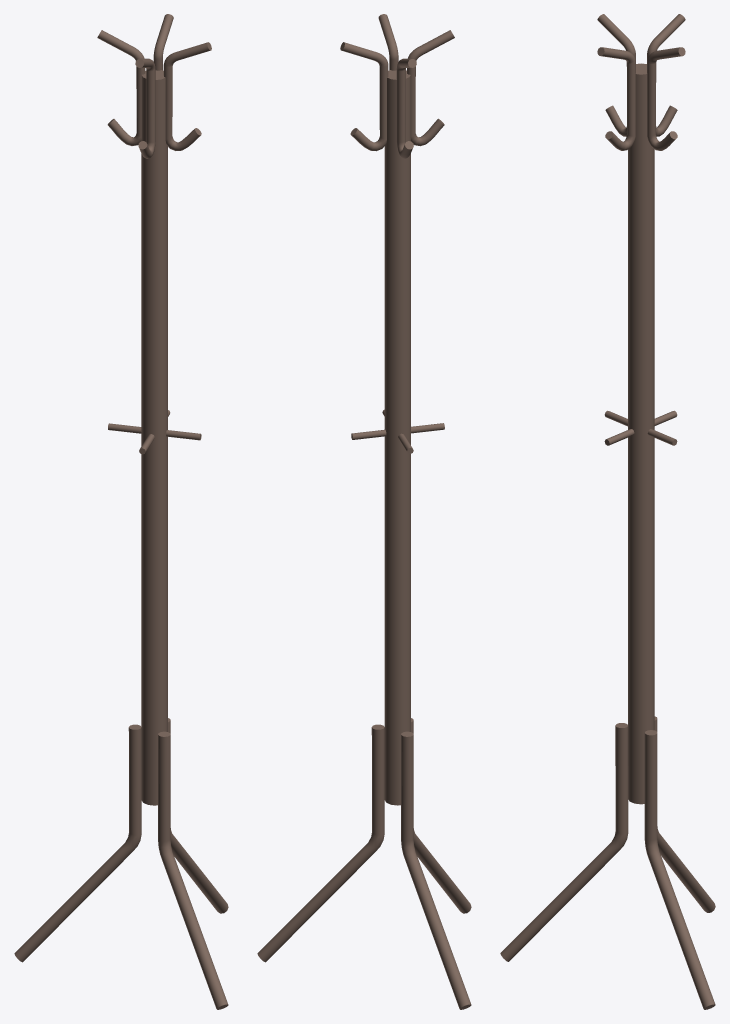
Rendered from Perchero.fbx.
3 renders of one model, left to right at view 1: azimuth 30°, elevation 25°; view 2: azimuth 150°, elevation 25°; view 3: azimuth 270°, elevation 25°, orthographic.
Visible parts, largest first — view 1: Perchero; view 2: Perchero; view 3: Perchero.
Boxes of the visible parts, <box> form: Perchero: <box>14,14,228,1009</box>; Perchero: <box>257,14,471,1009</box>; Perchero: <box>500,14,715,1009</box>.
Size of the model in its own units: 0.4199 by 1.75 by 0.3665.
